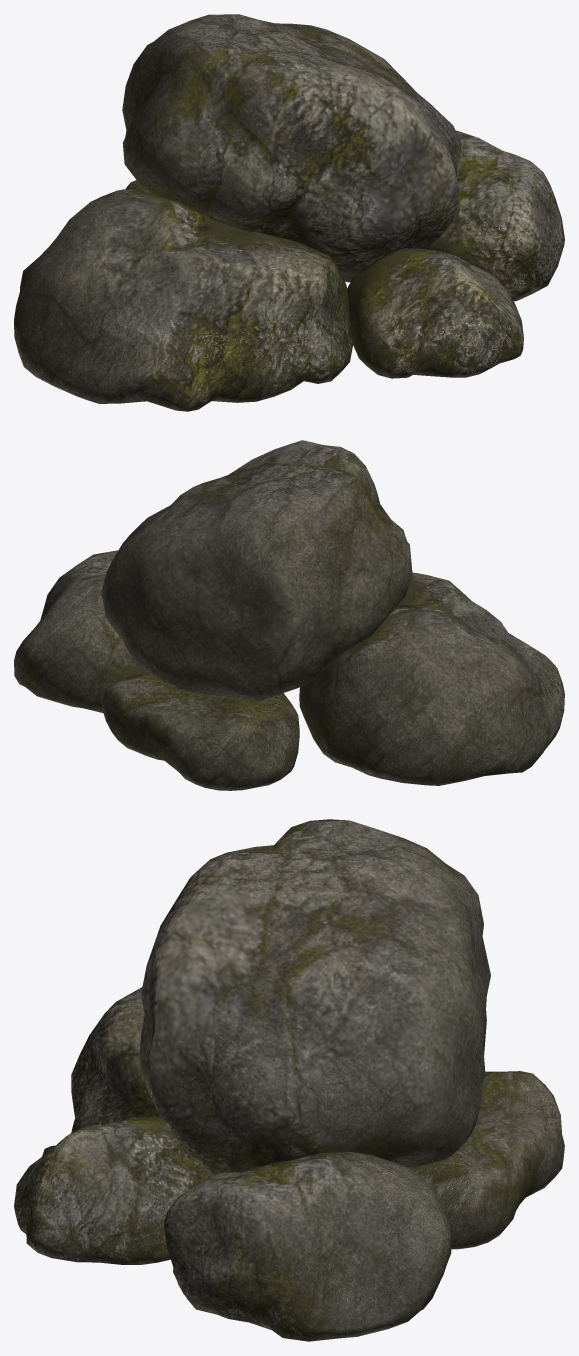
The model's file is Meshy_AI_Mossbound_Stones_0915224445_texture.glb.
The picture shows the model from 3 angles, top to bottom: view 1: azimuth 30°, elevation 25°; view 2: azimuth 150°, elevation 25°; view 3: azimuth 270°, elevation 25°; orthographic projection. The views are drawn at different scales.
Size of the model in its own units: 1 by 0.5098 by 0.7715.
Materials: 1 (1 with a texture image).
